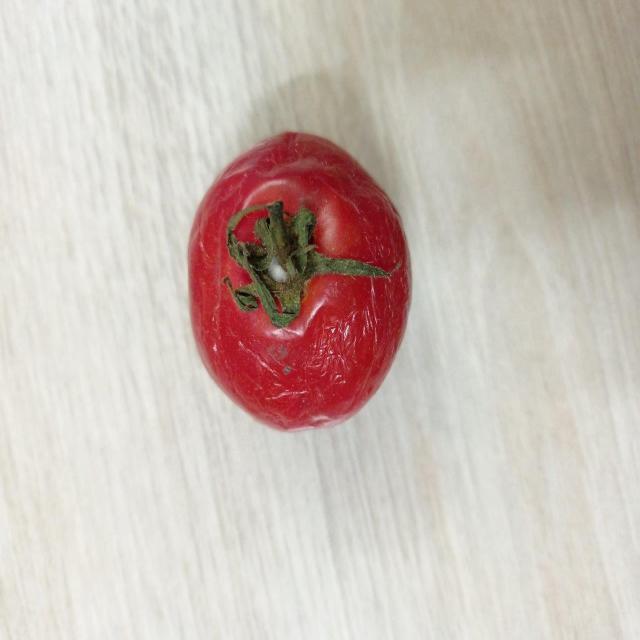overripe: (184, 129, 416, 433)
